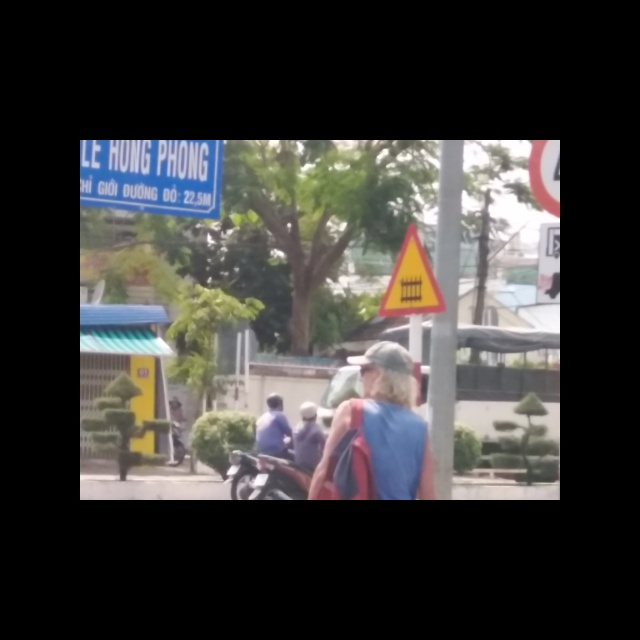Giao nhau với đường sắt có rào chắn: (375, 223, 446, 317)
